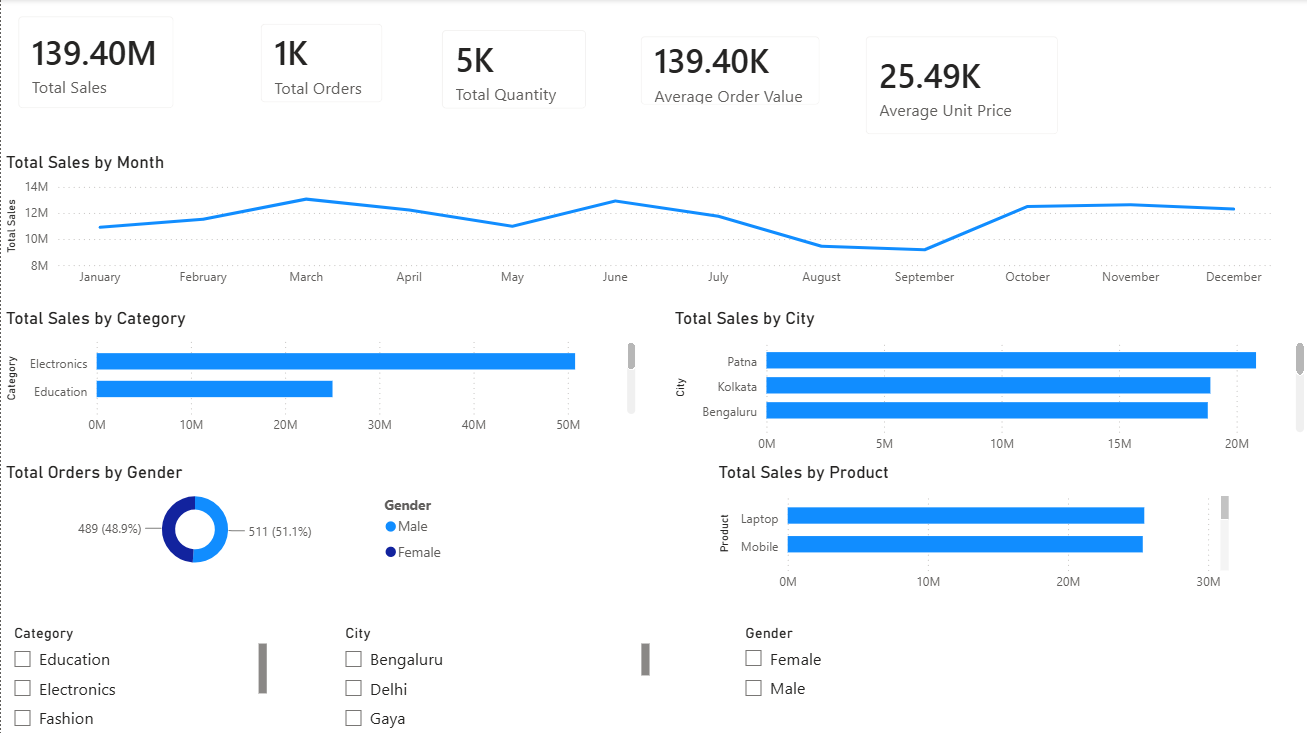

This screenshot's page, from the dashboard's own definition file:
{"tool":"powerbi","page":{"name":"Page 1","canvas":[1280,720],"ordinal":0},"visuals":[{"type":"cardVisual","fields":{"Data":["Sheet1.Total Sales"]},"box":[0,0,186.6,124.9],"z":0},{"type":"cardVisual","fields":{"Data":["Sheet1.Total Orders"]},"box":[237.4,6.9,153.7,111.1],"z":1000},{"type":"cardVisual","fields":{"Data":["Sheet1.Total Quantity"]},"box":[414.4,13.7,175.6,111.1],"z":2000},{"type":"cardVisual","fields":{"Data":["Sheet1.Average Order Value"]},"box":[609.3,19.2,209.9,101.5],"z":3000},{"type":"cardVisual","fields":{"Data":["Sheet1.Average Unit Price"]},"box":[828.8,19.2,222.3,130.4],"z":4000},{"type":"lineChart","fields":{"Category":["Sheet1.Order_Date.Variation.Date Hierarchy.Month"],"Y":["Sheet1.Total Sales"]},"box":[0,149.6,1251.5,141.3],"z":5000},{"type":"clusteredBarChart","fields":{"Category":["Sheet1.Category"],"Y":["Sheet1.Total Sales"]},"box":[0,301.9,625.7,133.1],"z":5001},{"type":"clusteredBarChart","fields":{"Category":["Sheet1.City"],"Y":["Sheet1.Total Sales"]},"box":[654.5,301.9,625.7,150.9],"z":5002},{"type":"donutChart","fields":{"Category":["Sheet1.Gender"],"Y":["Sheet1.Total Orders"]},"box":[0,452.8,446,112.5],"z":5003},{"type":"clusteredBarChart","fields":{"Category":["Sheet1.Product"],"Y":["Sheet1.Total Sales"]},"box":[697.1,452.8,509.1,135.8],"z":5004},{"type":"slicer","fields":{"Values":["Sheet1.Category"]},"box":[0,606.5,264.8,113.9],"z":5005},{"type":"slicer","fields":{"Values":["Sheet1.City"]},"box":[323.8,606.5,315.6,113.9],"z":5006},{"type":"slicer","fields":{"Values":["Sheet1.Gender"]},"box":[714.9,606.5,340.3,113.9],"z":5007}]}

Visuals, with their boxes in screenshot pixels (x1, y1, x2, y2), scaled from the page's 1280x720 canvas onto the 1307x733 screenshot:
cardVisual - Sheet1.Total Sales: <region>0, 0, 191, 127</region>
cardVisual - Sheet1.Total Orders: <region>242, 7, 399, 120</region>
cardVisual - Sheet1.Total Quantity: <region>423, 14, 602, 127</region>
cardVisual - Sheet1.Average Order Value: <region>622, 20, 836, 123</region>
cardVisual - Sheet1.Average Unit Price: <region>846, 20, 1073, 152</region>
lineChart - Sheet1.Order_Date.Variation.Date Hierarchy.Month x Sheet1.Total Sales: <region>0, 152, 1278, 296</region>
clusteredBarChart - Sheet1.Category x Sheet1.Total Sales: <region>0, 307, 639, 443</region>
clusteredBarChart - Sheet1.City x Sheet1.Total Sales: <region>668, 307, 1306, 461</region>
donutChart - Sheet1.Gender x Sheet1.Total Orders: <region>0, 461, 455, 576</region>
clusteredBarChart - Sheet1.Product x Sheet1.Total Sales: <region>712, 461, 1232, 599</region>
slicer - Sheet1.Category: <region>0, 617, 270, 732</region>
slicer - Sheet1.City: <region>331, 617, 653, 732</region>
slicer - Sheet1.Gender: <region>730, 617, 1077, 732</region>
